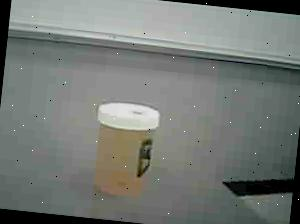Bottle B: (77, 86, 174, 210)
